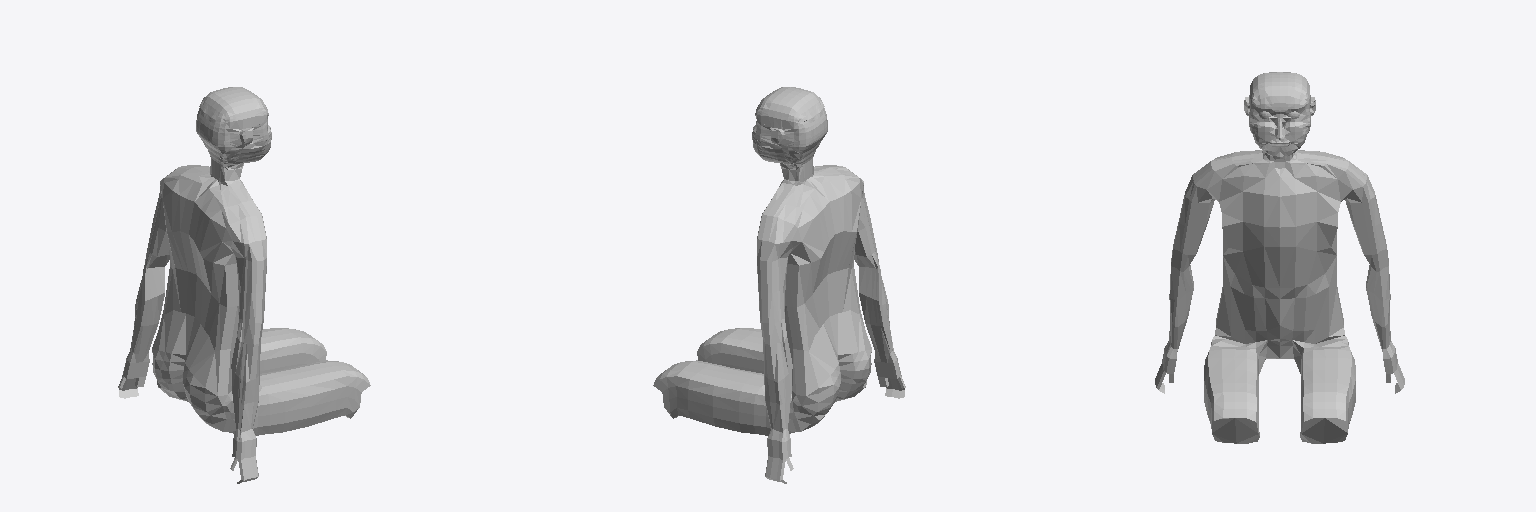
Rendered from model3smoothv2.obj.
3 views of the same model, side by side, from view 1: azimuth 30°, elevation 25°; view 2: azimuth 150°, elevation 25°; view 3: azimuth 270°, elevation 25° (orthographic).
Visible parts, largest first — view 1: Cube.001; view 2: Cube.001; view 3: Cube.001.
Boxes of the visible parts, box(x1,y1,x2,y2) form: Cube.001: box(118, 87, 370, 483); Cube.001: box(653, 87, 905, 483); Cube.001: box(1155, 72, 1404, 443).
Bounding box in the file's own units: 5.7 × 10.87 × 7.37.